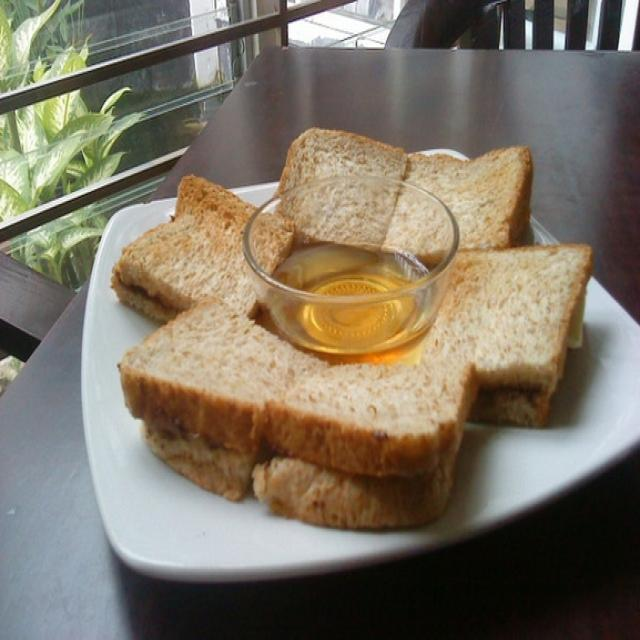面包点心: (90, 111, 619, 570)
